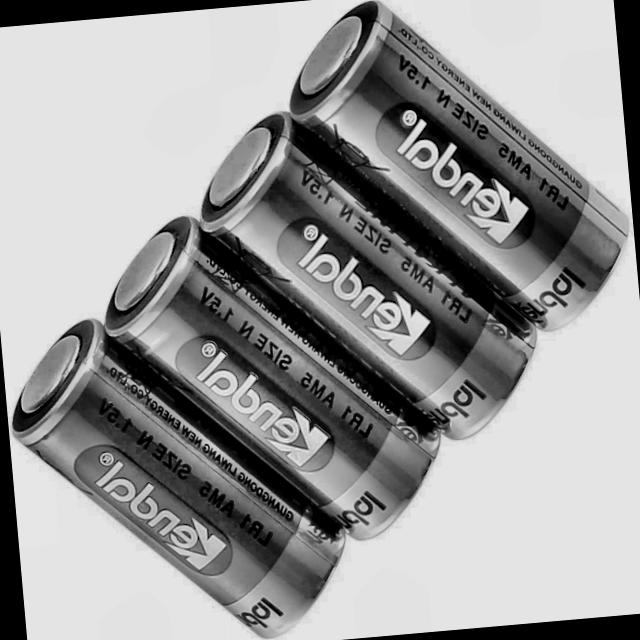drycell: (90, 192, 456, 564), (7, 293, 350, 640)
